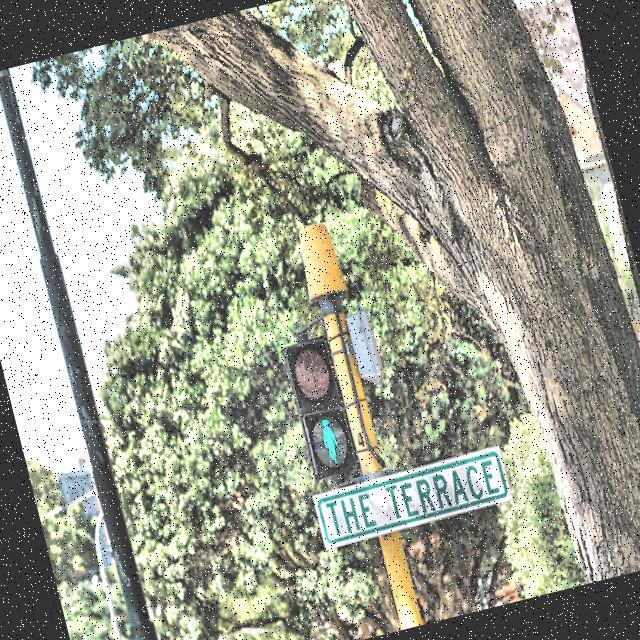green_light: (312, 413, 344, 468)
